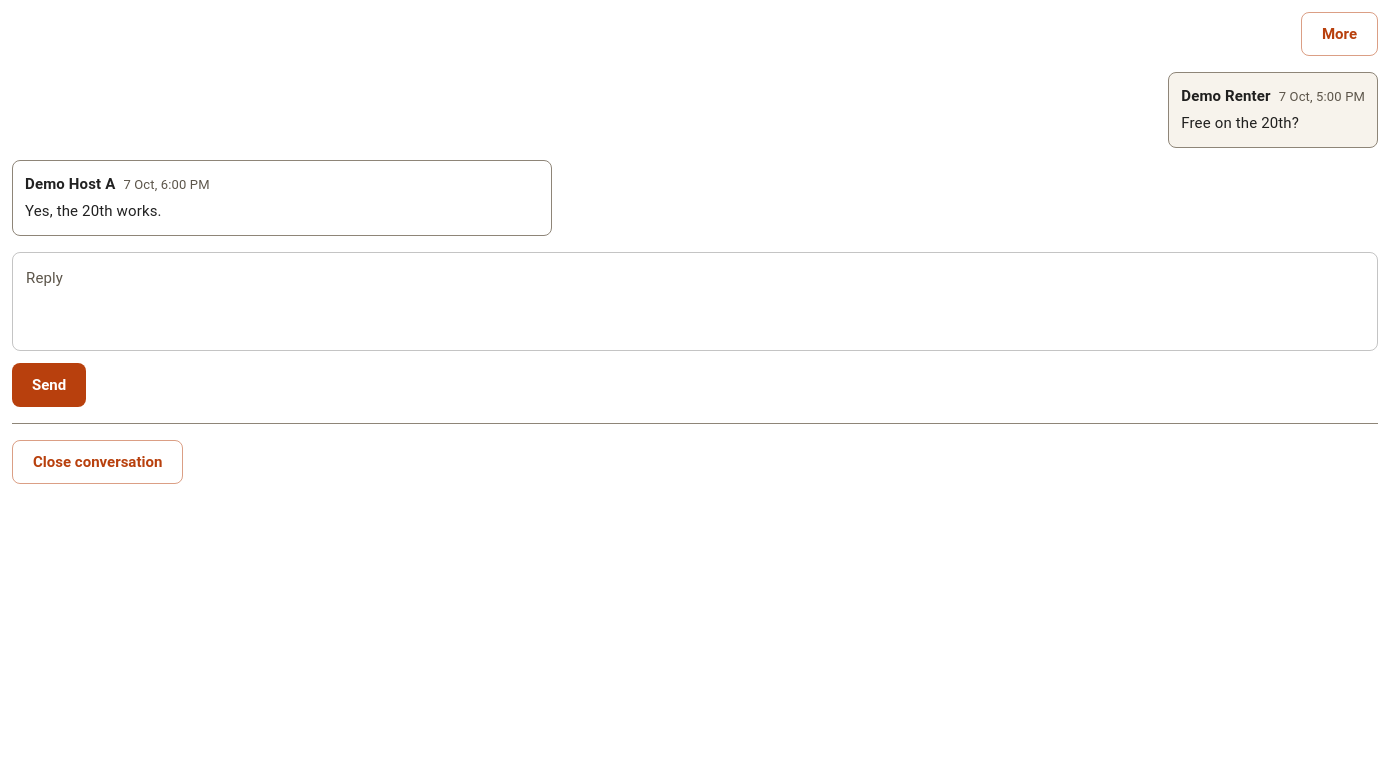
Test: on 409 keeps the typed text, disables the box and says it was closed
Type "Still on?" into the text box labelled "Reply".
click(695, 302); type("Still on?")  # box top-left (26, 268), bottom-right (1364, 334)
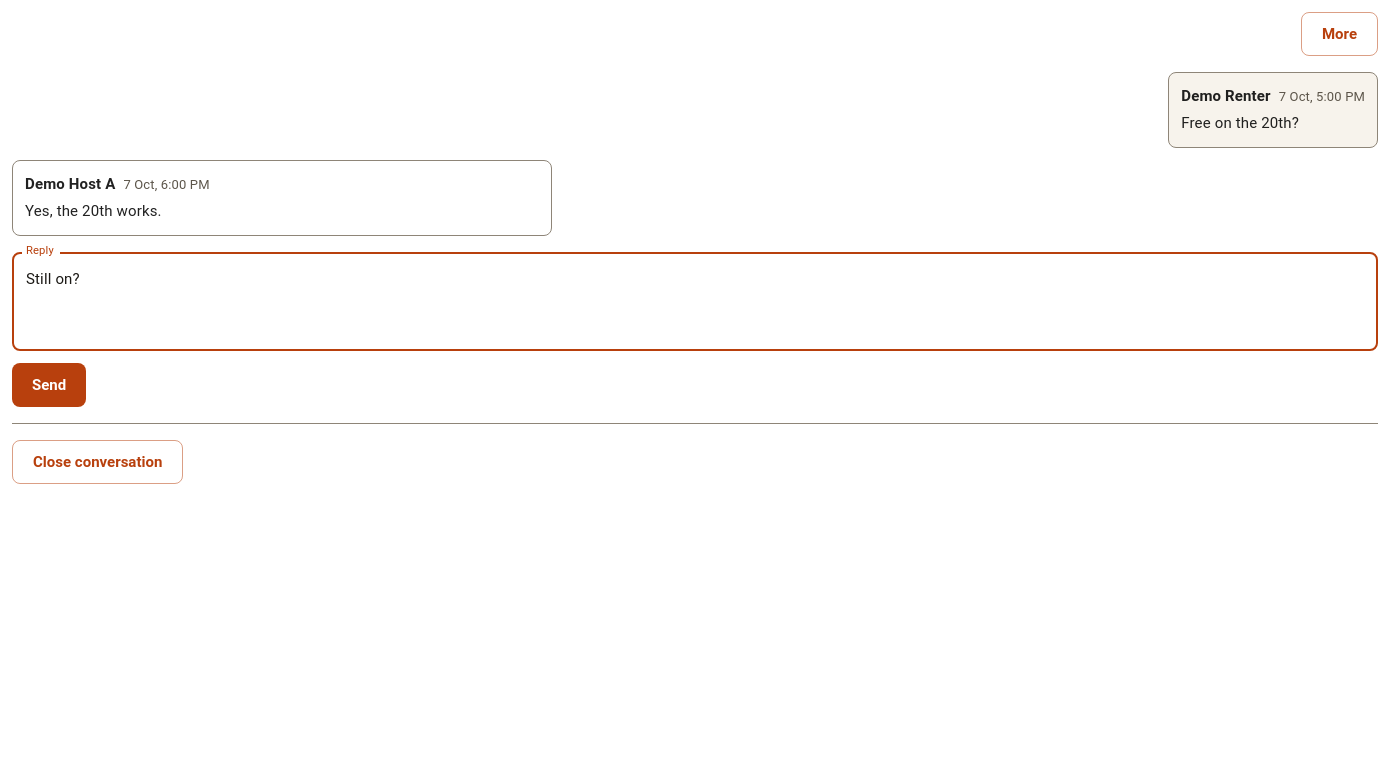
Click the button "Send".
click(49, 385)  # box top-left (12, 363), bottom-right (86, 407)
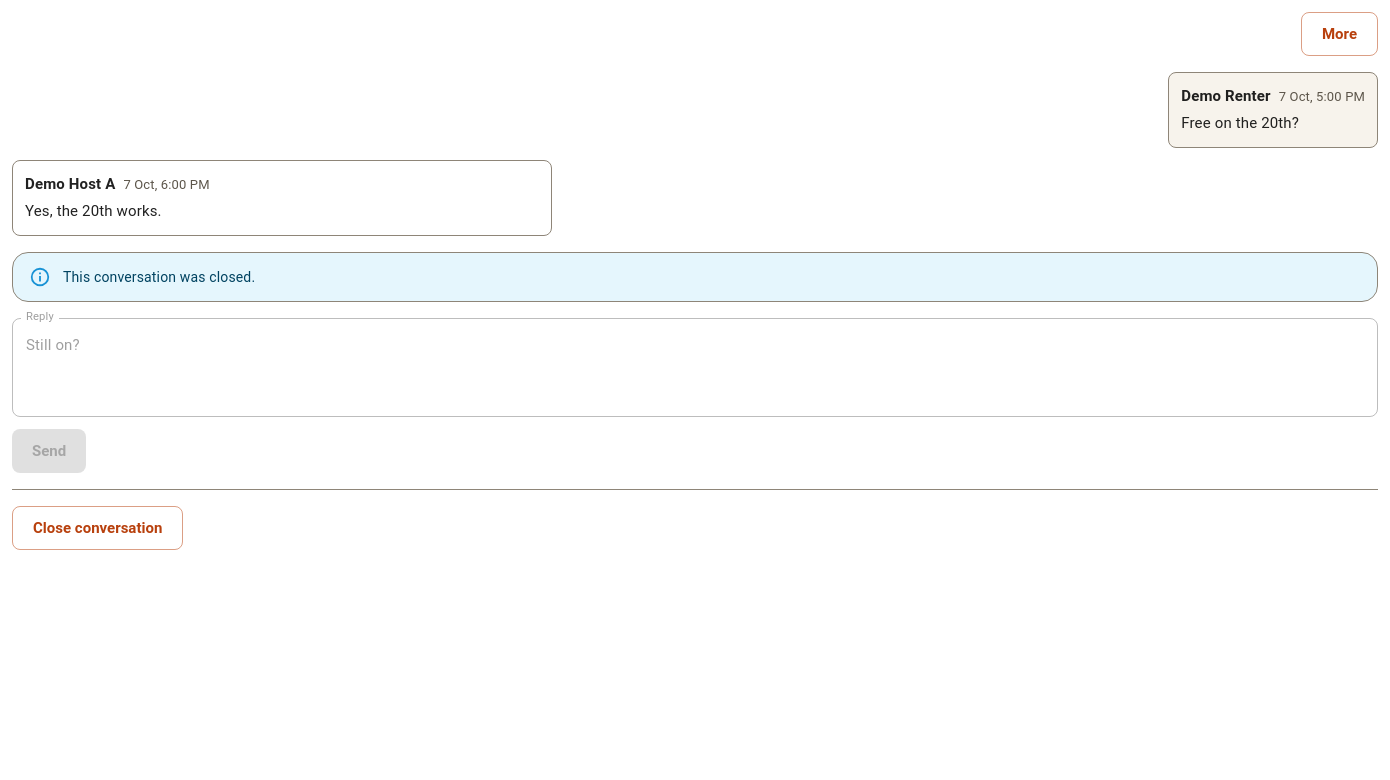
Expected: the message reads "This conversation was closed.", top-left (63, 269), bottom-right (255, 285)
Expected: the text box labelled "Reply" is disabled, top-left (26, 334), bottom-right (1364, 400)
